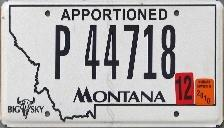1: (141, 23, 158, 81)
4: (102, 24, 123, 80), (82, 24, 102, 81)
7: (122, 23, 141, 80)
8: (159, 23, 178, 81)
P: (51, 23, 72, 82)
